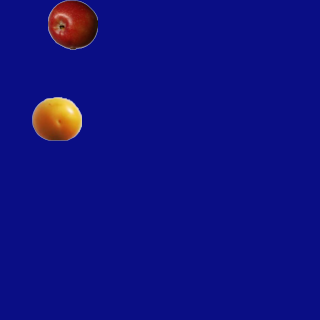Apple Braeburn: (47, 0, 97, 49)
Cherry Wax Yellow: (31, 93, 81, 143)
